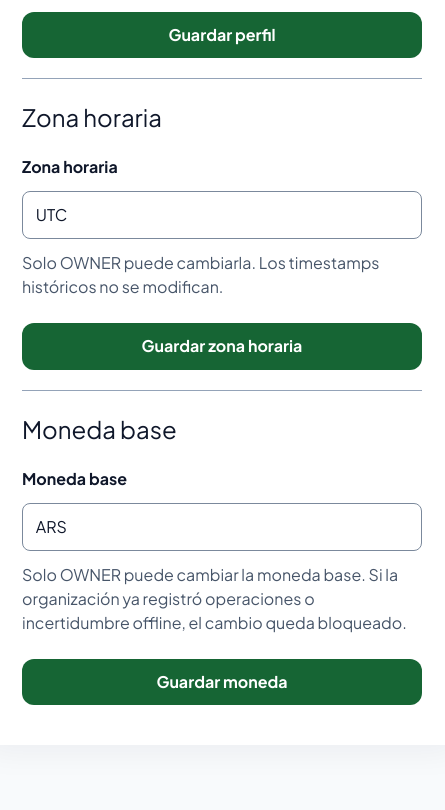
Test: allows OWNER to change currency with optimistic concurrency
(page scrolled)
Replace the text in the field labelled "Moneda base" with "USD": (222, 526) [22,502,422,550]
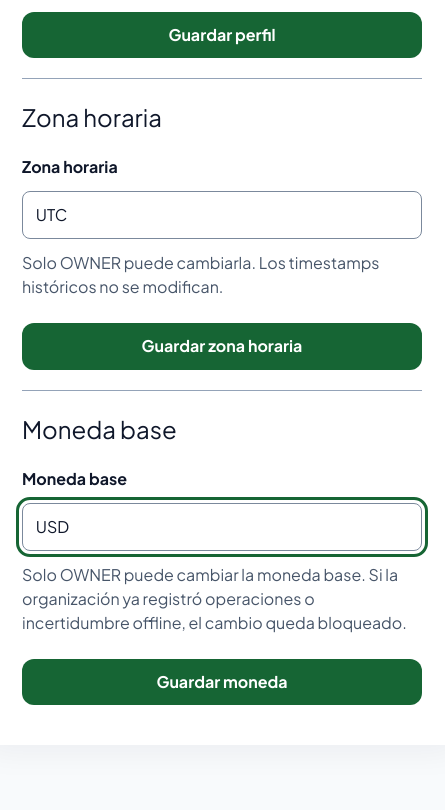
Click the button "Guardar moneda": (222, 682) [22,658,422,705]
(page scrolled)
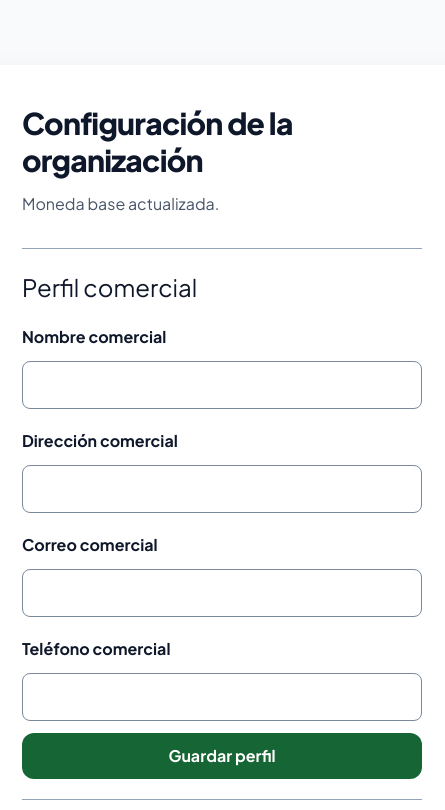
Check: the text "Moneda base actualizada." is shown, box [22,193,219,214]
